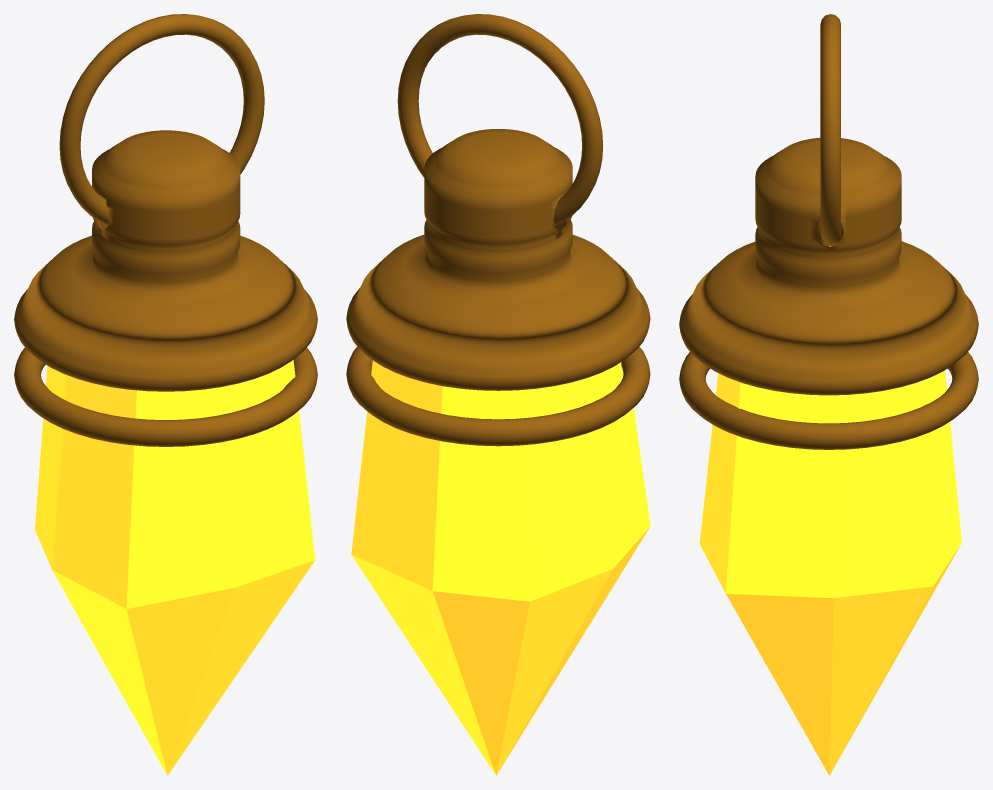
File: crystal.glb
3 views of the same model, side by side, from view 1: azimuth 30°, elevation 25°; view 2: azimuth 150°, elevation 25°; view 3: azimuth 270°, elevation 25° (orthographic).
Parts seen in each view (by area): view 1: Cube.001_2, Torus_3, Torus.001_4; view 2: Cube.001_2, Torus_3, Torus.001_4; view 3: Cube.001_2, Torus_3, Torus.001_4.
Boxes of the visible parts, bbox=[...] form: Cube.001_2: bbox=[35, 360, 315, 775]; Torus_3: bbox=[14, 130, 317, 446]; Torus.001_4: bbox=[59, 14, 264, 225]; Cube.001_2: bbox=[351, 360, 650, 775]; Torus_3: bbox=[346, 129, 650, 446]; Torus.001_4: bbox=[397, 14, 602, 225]; Cube.001_2: bbox=[699, 246, 961, 775]; Torus_3: bbox=[679, 138, 978, 449]; Torus.001_4: bbox=[820, 14, 840, 244].
Bounding box in the file's own units: 2.05 × 5.64 × 2.05.
